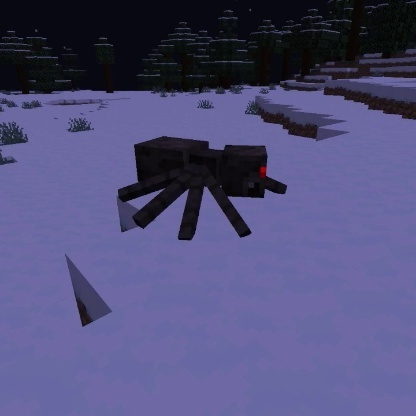spider: (114, 132, 291, 245)
